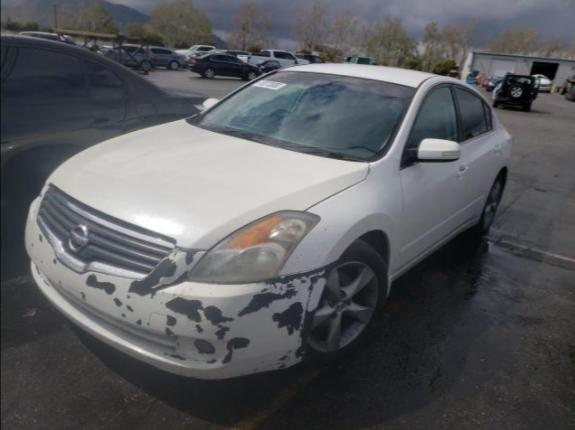Paint chip: (126, 257, 188, 299), (264, 262, 334, 288), (236, 289, 297, 318), (294, 307, 316, 362), (271, 302, 303, 336), (164, 296, 204, 323), (221, 337, 250, 364), (84, 273, 116, 296), (203, 305, 234, 325), (193, 339, 215, 355), (179, 249, 199, 266), (318, 262, 336, 280), (214, 324, 230, 341), (308, 275, 319, 291), (169, 353, 187, 361), (166, 314, 177, 327), (164, 327, 175, 338), (112, 297, 123, 308), (304, 291, 311, 308), (277, 355, 290, 362), (194, 324, 203, 334), (125, 304, 134, 313), (78, 291, 86, 301), (277, 363, 287, 370), (173, 248, 180, 258), (135, 318, 142, 327), (42, 279, 49, 288), (37, 233, 43, 243), (34, 264, 40, 274), (206, 359, 217, 364), (57, 280, 63, 289), (261, 288, 268, 293), (286, 284, 294, 288), (162, 352, 168, 357), (274, 361, 281, 365), (52, 258, 56, 265), (30, 242, 34, 249), (188, 375, 201, 377), (287, 349, 292, 354), (120, 313, 125, 318), (175, 342, 179, 348), (126, 294, 130, 299), (39, 260, 43, 265), (300, 280, 306, 283), (145, 322, 149, 326), (182, 289, 186, 293), (279, 286, 282, 291), (34, 255, 37, 260), (252, 368, 257, 371), (219, 374, 224, 377), (173, 293, 176, 297), (209, 291, 213, 294), (221, 368, 224, 371), (260, 361, 263, 364), (189, 288, 193, 290), (269, 364, 273, 366), (160, 301, 162, 304), (194, 359, 197, 361), (162, 292, 164, 294), (241, 372, 243, 374), (227, 375, 230, 376)
Scratch: (148, 312, 164, 327)
